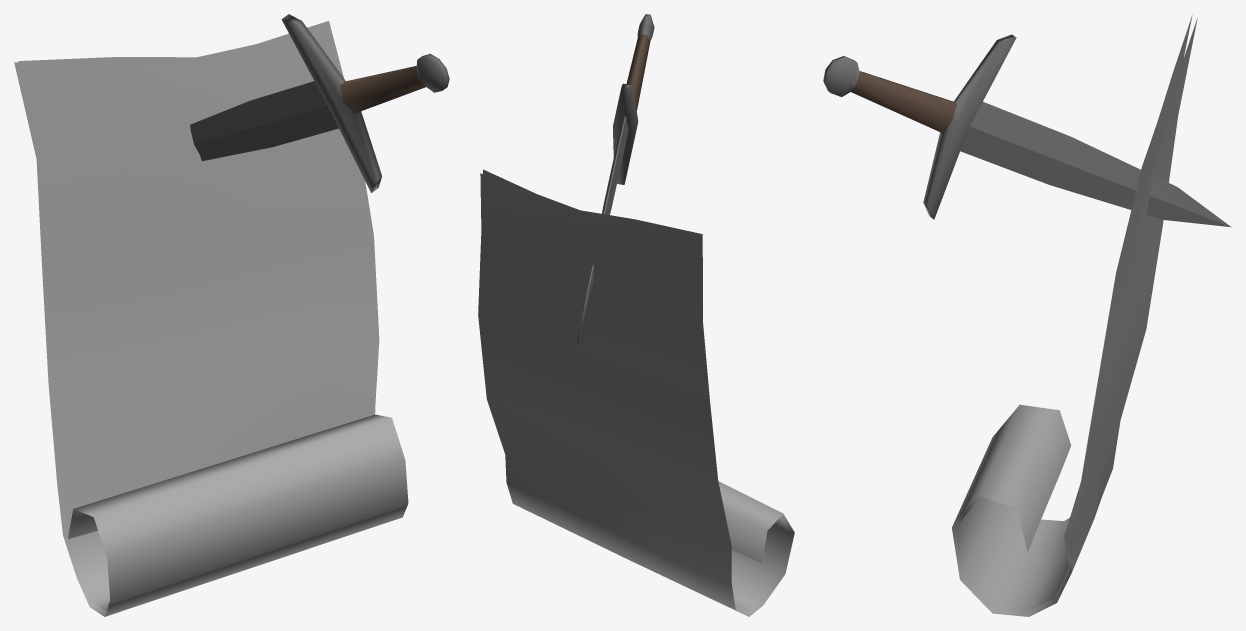
File: DaggerAndScroll.fbx
The picture shows the model from 3 angles, left to right: view 1: azimuth 30°, elevation 25°; view 2: azimuth 150°, elevation 25°; view 3: azimuth 270°, elevation 25°; orthographic projection. The views are drawn at different scales.
Visible parts, largest first — view 1: parchmentScoll, dagger; view 2: parchmentScoll, dagger; view 3: parchmentScoll, dagger.
Boxes of the visible parts, x1=… form: parchmentScoll: x1=14, y1=21, x2=408, y2=616; dagger: x1=190, y1=14, x2=449, y2=192; parchmentScoll: x1=478, y1=169, x2=794, y2=616; dagger: x1=577, y1=14, x2=654, y2=343; parchmentScoll: x1=952, y1=15, x2=1197, y2=616; dagger: x1=823, y1=34, x2=1231, y2=227.
Bounding box in the file's own units: 39.16 × 67.32 × 42.81.
